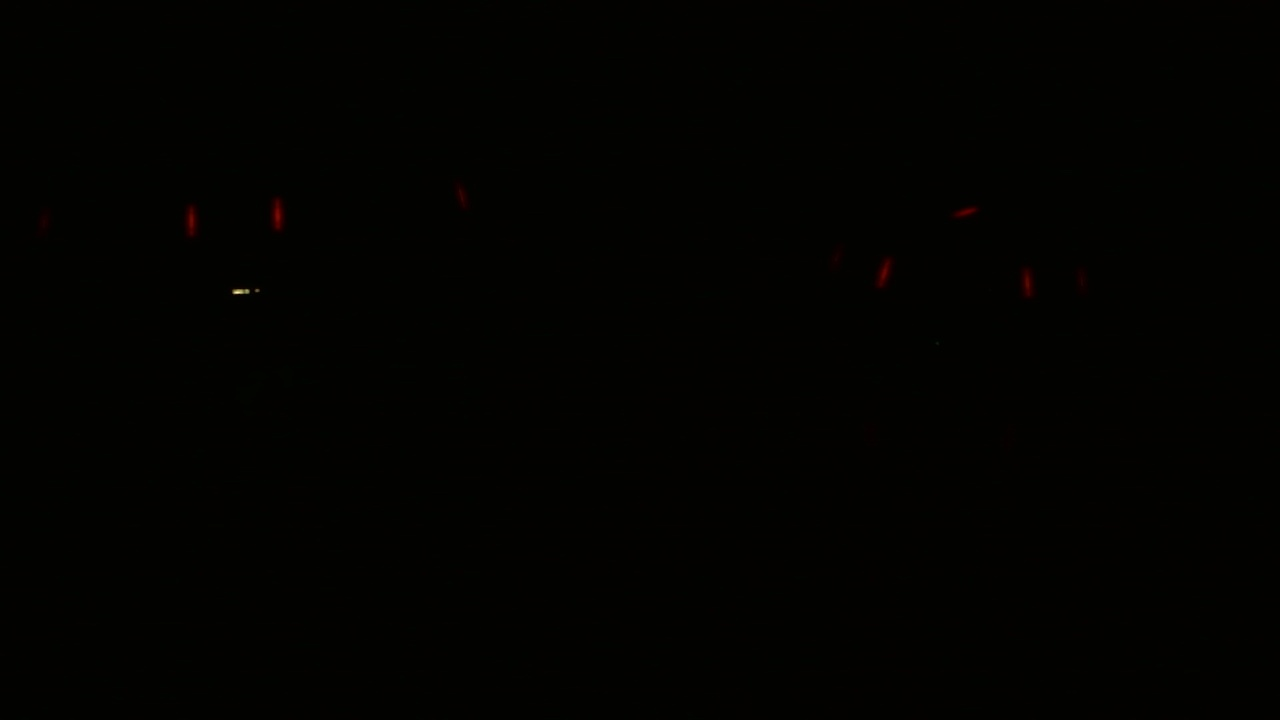pair1: (179, 202, 283, 232)
